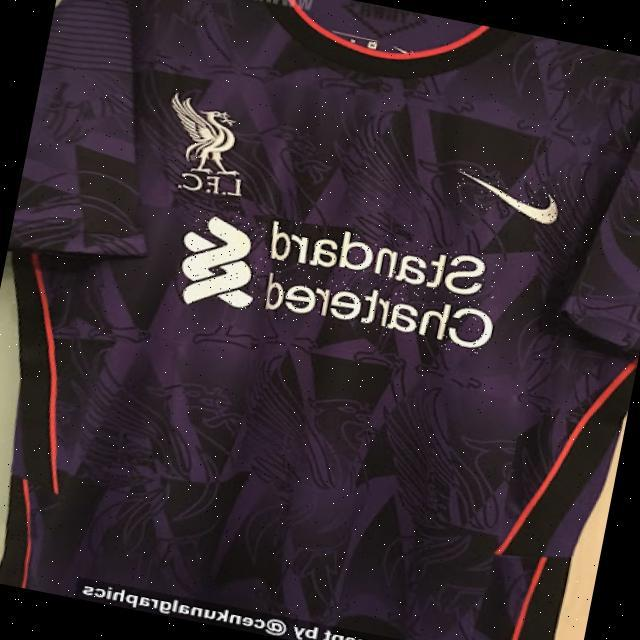Nike: (453, 165, 566, 227)
Standard Chartered: (177, 200, 501, 359)
